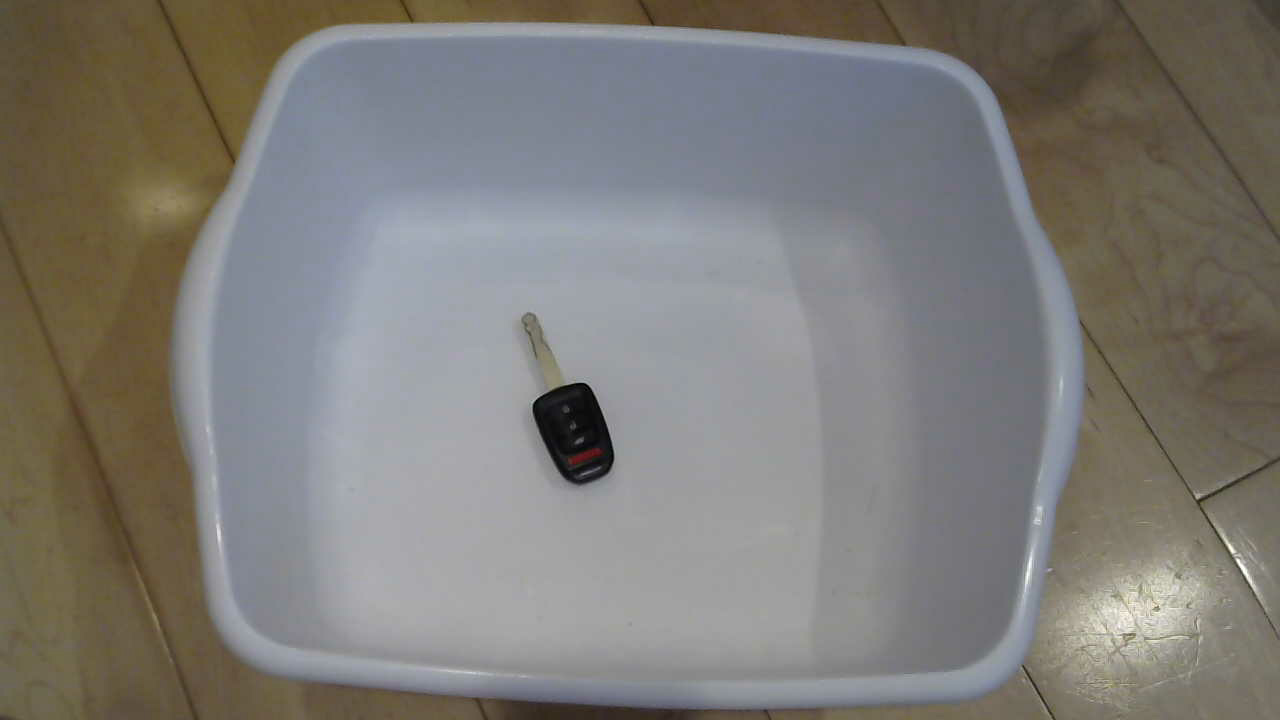key: (496, 311, 639, 493)
